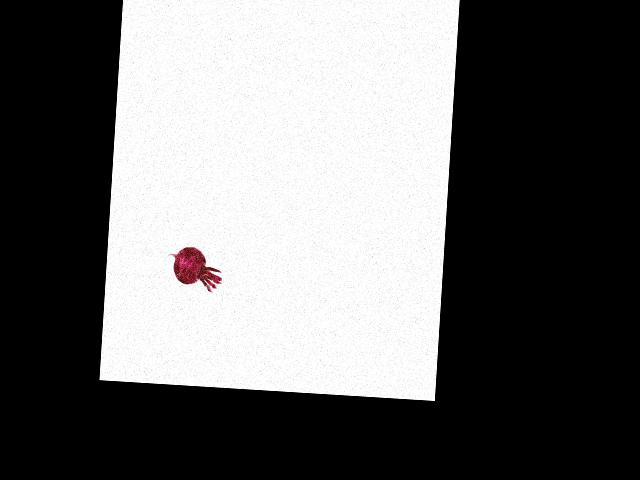beet: (165, 245, 223, 292)
